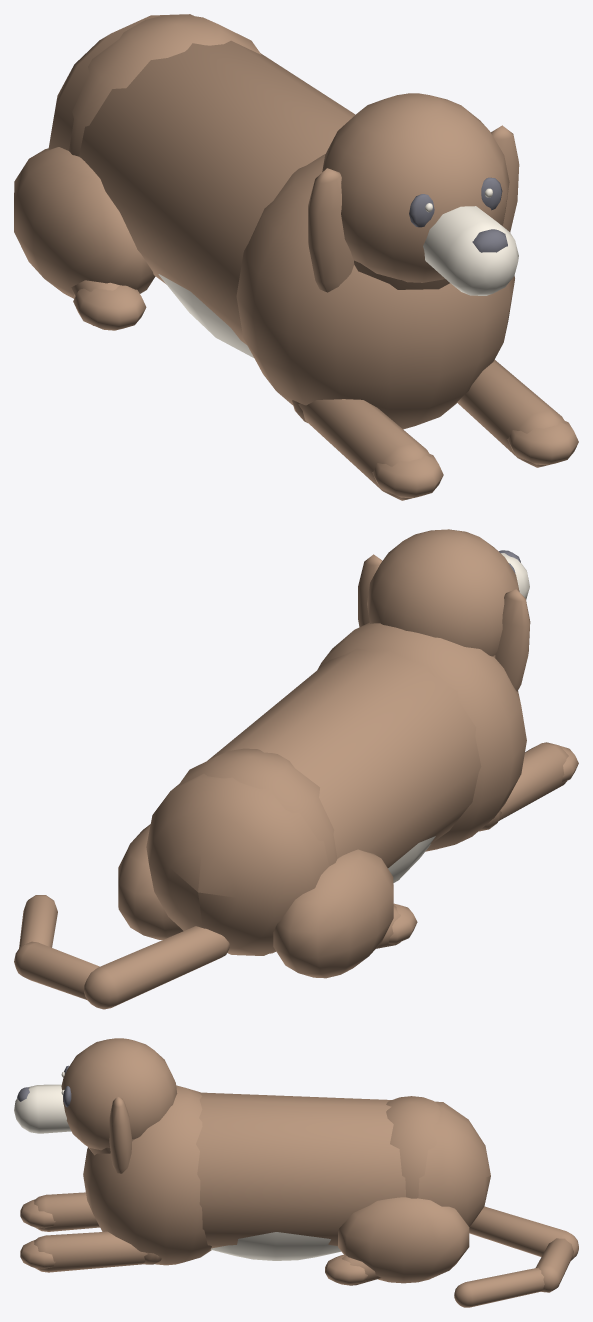
File: companion-animals-and-pet-home-dog-spaniel-lie-282de1bb__20571.glb
3 views of the same model, one above another, from view 1: azimuth 30°, elevation 25°; view 2: azimuth 150°, elevation 25°; view 3: azimuth 270°, elevation 25° (orthographic). The views are drawn at different scales.
Parts seen in each view (by area): view 1: dog-spaniel-lie; view 2: dog-spaniel-lie; view 3: dog-spaniel-lie.
Boxes of the visible parts, x1,y1,x2,y2 form: dog-spaniel-lie: (14, 14, 578, 500); dog-spaniel-lie: (14, 529, 578, 1009); dog-spaniel-lie: (14, 1038, 578, 1307).
Size of the model in its own units: 0.3742 by 0.3282 by 0.7826.
